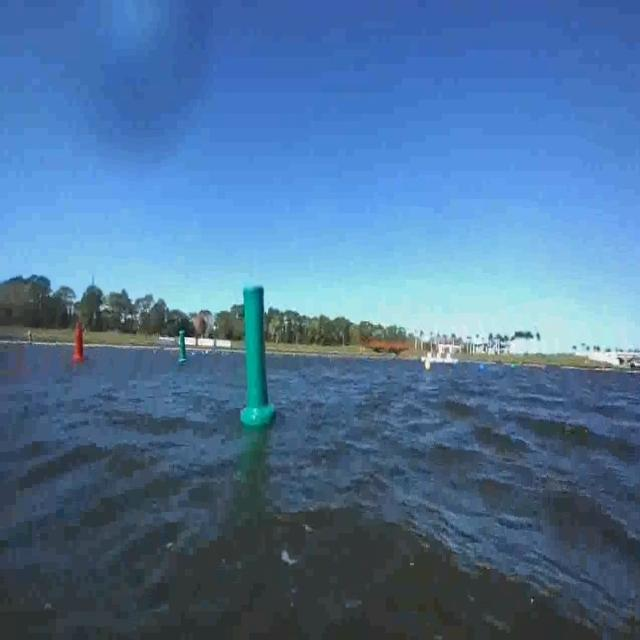blue-buoy: (480, 362, 485, 372)
green-column-buoy: (238, 278, 274, 426), (180, 331, 191, 366)
red-column-buoy: (73, 323, 86, 363)
yellow-buoy: (423, 359, 432, 373)
